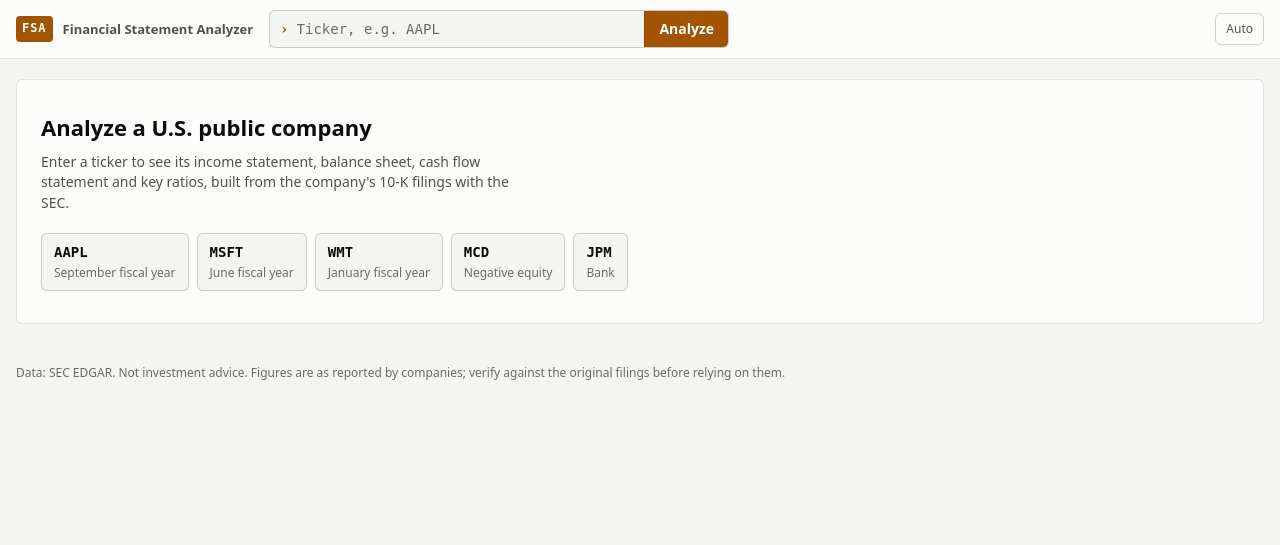
Scenario: AI analysis › explains how to enable AI when no API key is configured
Type "EXMP" into the field named "Company ticker" at x=466, y=29, box [288,13,644,45]
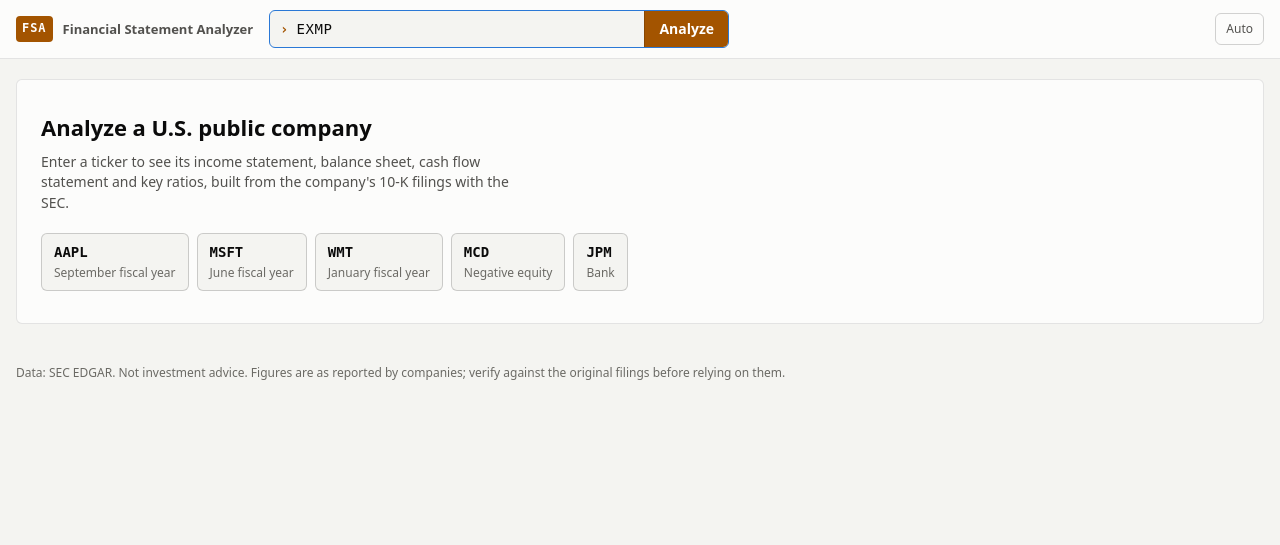
Click the button "Analyze" at x=686, y=29, box [644,11,728,47]
(page scrolled)
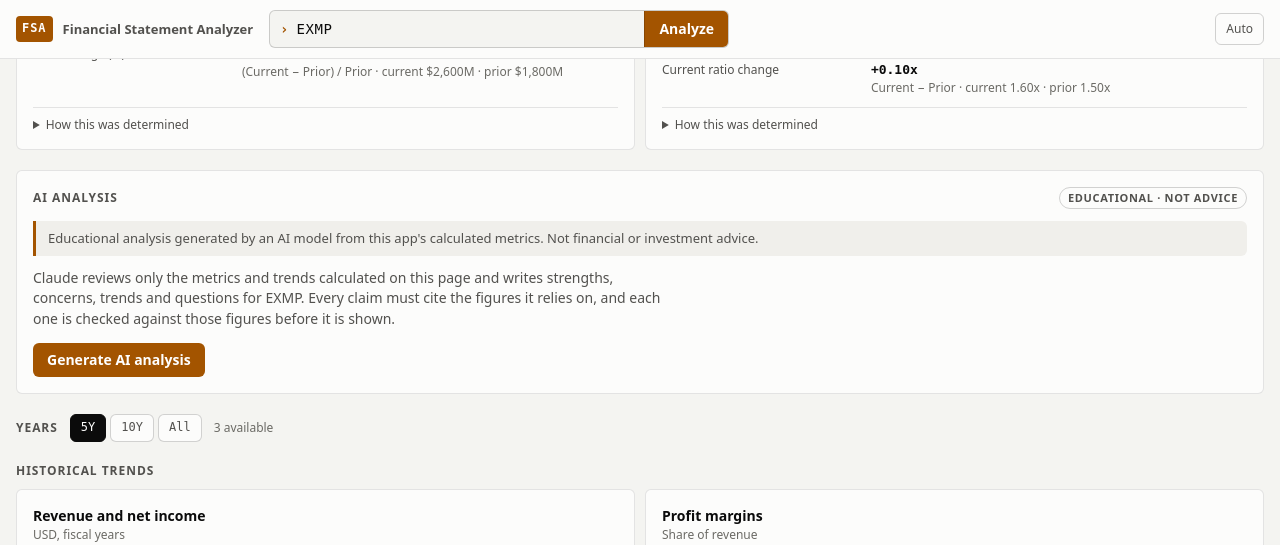
Click the button "Generate AI analysis" at x=119, y=360, box [33,343,205,377]
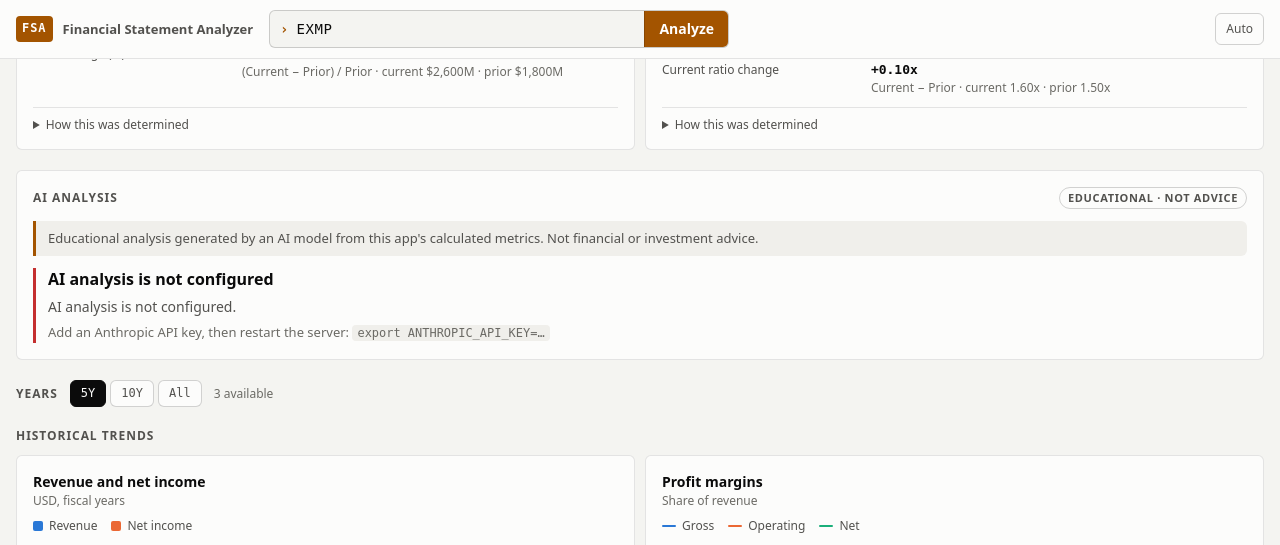
Expected: the message shows "ANTHROPIC_API_KEY", [358,326,545,340]
